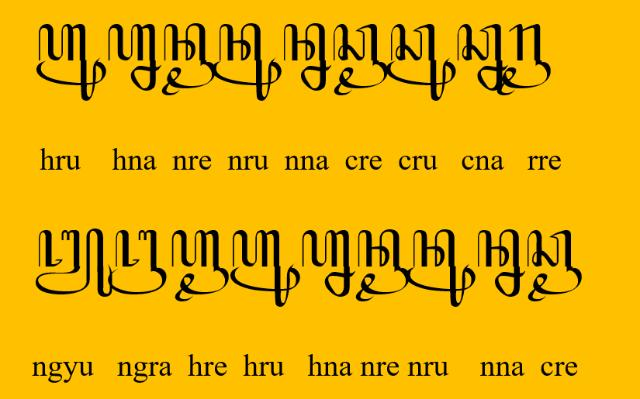cn: (458, 24, 508, 92)
cre: (333, 24, 389, 96), (526, 230, 582, 302)
cru: (387, 23, 458, 101)
hn: (106, 23, 162, 91), (300, 230, 356, 298)
hre: (172, 230, 230, 302)
hru: (229, 230, 301, 308), (36, 22, 106, 102)
ngra: (109, 229, 168, 295)
ngyu: (35, 228, 113, 298)
nn: (476, 229, 526, 298), (282, 23, 332, 91)
nre: (160, 22, 216, 96), (355, 230, 409, 302)
nru: (212, 22, 282, 102), (407, 230, 475, 308)
rre: (496, 23, 552, 97)
